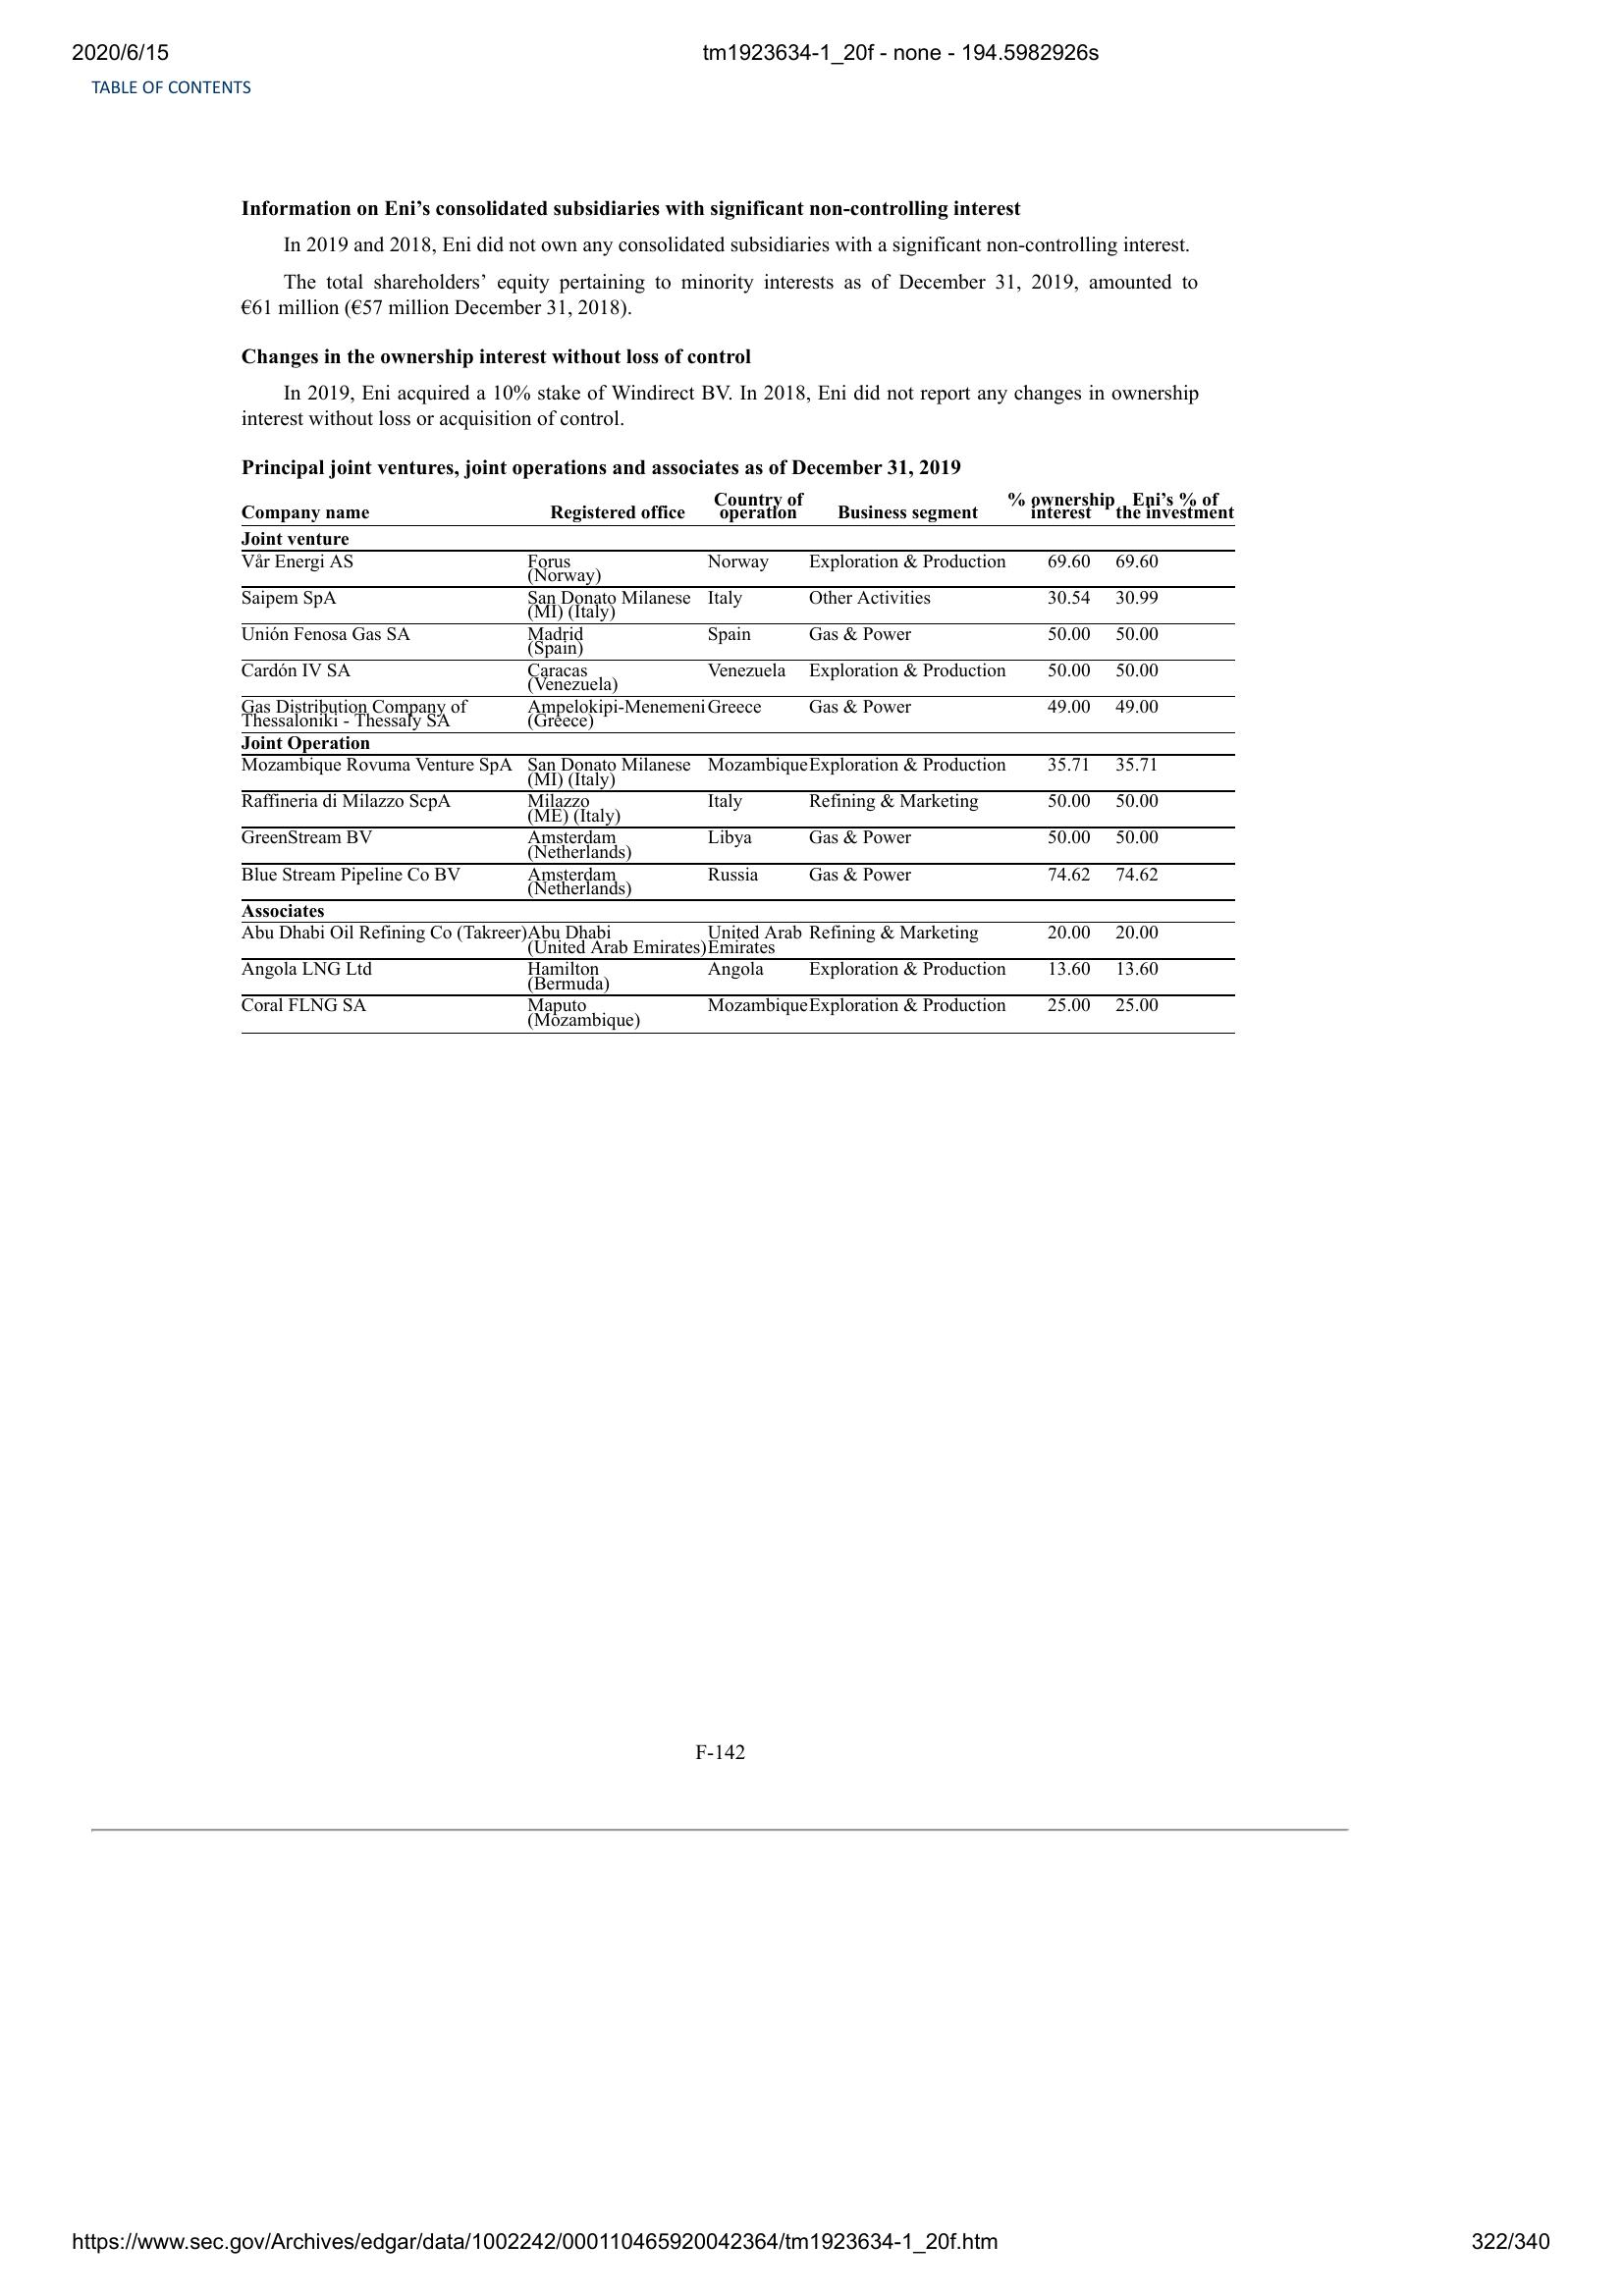table: (237, 484, 1244, 1041)
